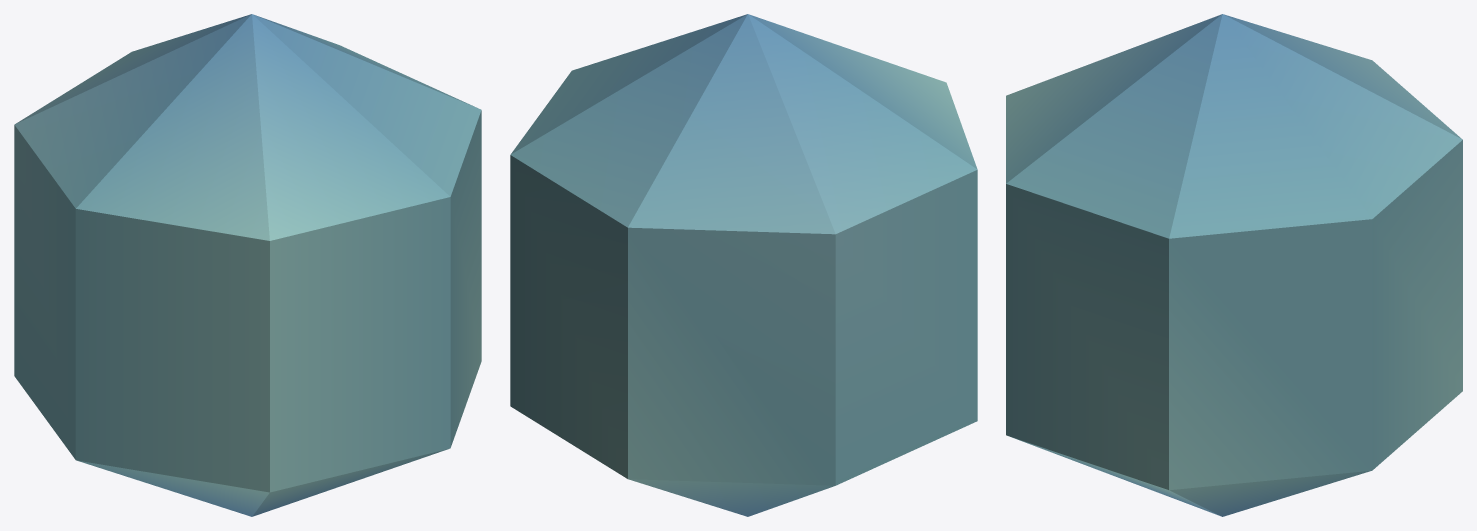
Rendered from girth_oddcrystal.glb.
3 views of the same model, side by side, from view 1: azimuth 30°, elevation 25°; view 2: azimuth 150°, elevation 25°; view 3: azimuth 270°, elevation 25° (orthographic).
Visible parts, largest first — view 1: Sphere; view 2: Sphere; view 3: Sphere.
Boxes of the visible parts, bbox=[...] form: Sphere: bbox=[14, 14, 481, 516]; Sphere: bbox=[510, 14, 977, 516]; Sphere: bbox=[1006, 14, 1462, 516].
Size of the model in its own units: 1.69 by 2 by 1.65.
